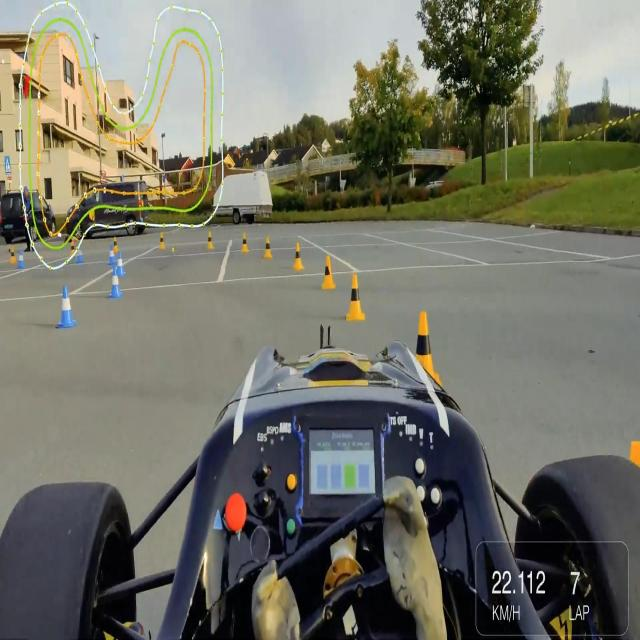blue_cone: (53, 283, 79, 331), (108, 266, 125, 302), (116, 249, 128, 278), (16, 247, 26, 271), (106, 242, 116, 266), (75, 244, 85, 266)
yellow_cone: (406, 300, 446, 418), (344, 270, 368, 325), (318, 253, 339, 292), (629, 419, 640, 484), (292, 240, 304, 274), (262, 234, 274, 260), (241, 230, 250, 254), (112, 234, 120, 255), (158, 231, 166, 252), (207, 228, 214, 252), (10, 243, 16, 267), (70, 239, 76, 258)
